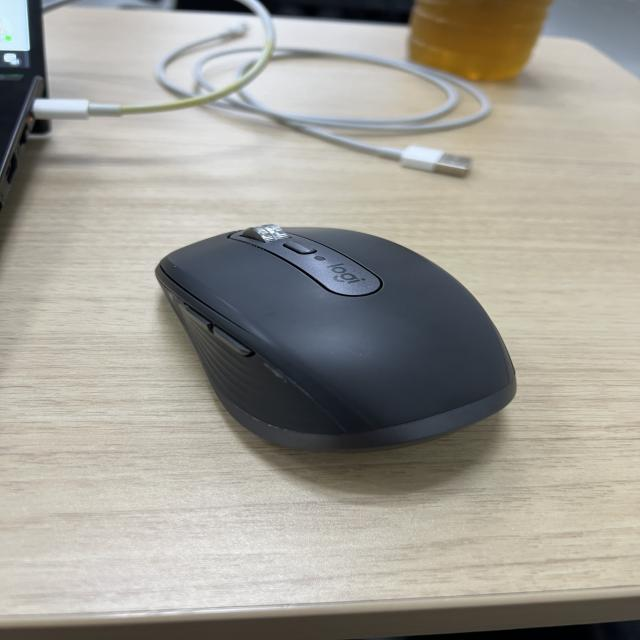mouse: (140, 213, 531, 476)
